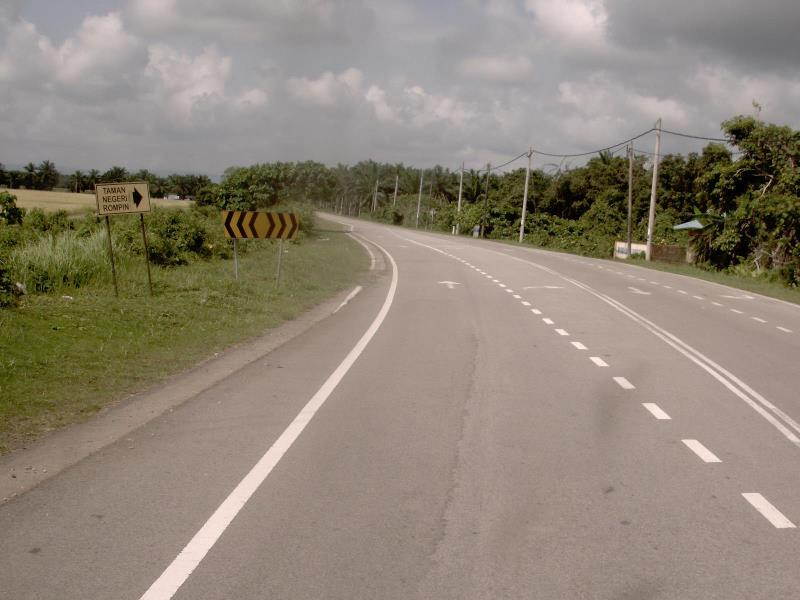ads_sign: (214, 199, 303, 246), (88, 177, 156, 220)
